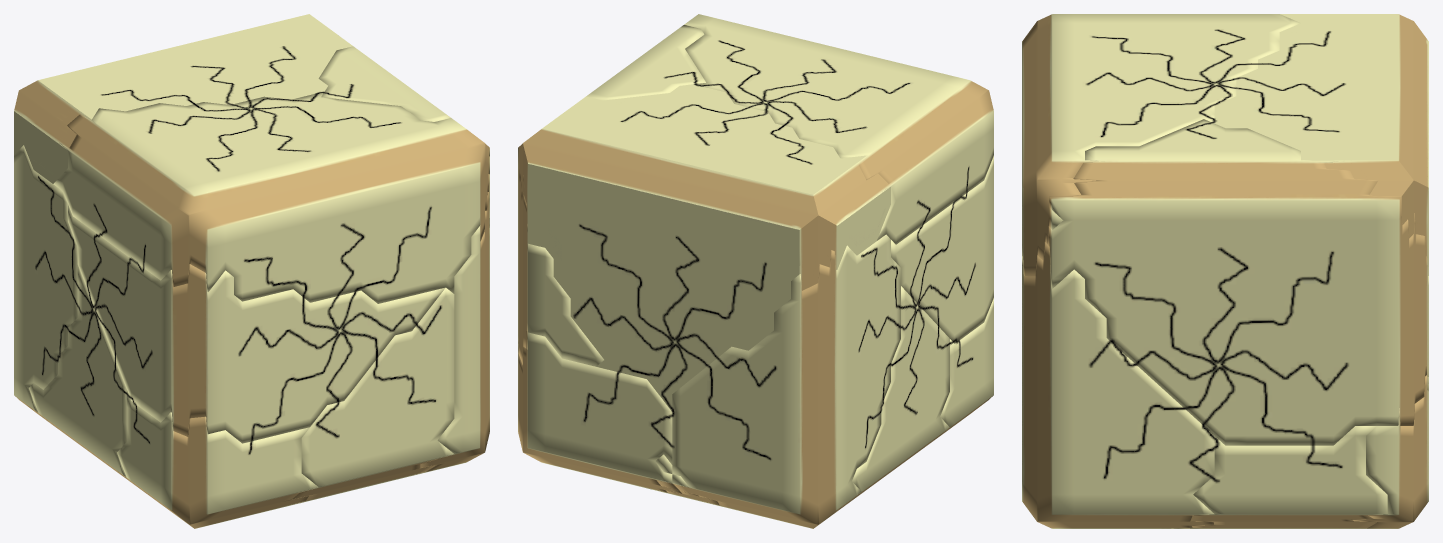
Rendered from BrokenBox.gltf.
3 renders of one model, left to right at view 1: azimuth 30°, elevation 25°; view 2: azimuth 150°, elevation 25°; view 3: azimuth 270°, elevation 25°, orthographic. The views are drawn at different scales.
Visible parts, largest first — view 1: 立方体.012, 立方体.007, 立方体.001, 立方体.005, 立方体.006, 立方体.009, 立方体.008, 立方体.004, 立方体.002; view 2: 立方体.001, 立方体.009, 立方体.012, 立方体.003, 立方体.007, 立方体.002, 立方体.008, 立方体.006, 立方体.011; view 3: 立方体.002, 立方体.004, 立方体.012, 立方体.001, 立方体.010, 立方体.003.
Part boxes in pixels (x1=…): 立方体.012: x1=53, y1=91, x2=489, y2=303; 立方体.007: x1=68, y1=204, x2=445, y2=443; 立方体.001: x1=14, y1=14, x2=352, y2=183; 立方体.005: x1=292, y1=288, x2=454, y2=504; 立方体.006: x1=117, y1=389, x2=318, y2=528; 立方体.009: x1=14, y1=145, x2=77, y2=426; 立方体.008: x1=29, y1=265, x2=146, y2=493; 立方体.004: x1=412, y1=192, x2=489, y2=475; 立方体.002: x1=318, y1=46, x2=489, y2=227; 立方体.001: x1=519, y1=84, x2=890, y2=411; 立方体.009: x1=672, y1=234, x2=900, y2=528; 立方体.012: x1=684, y1=14, x2=993, y2=244; 立方体.003: x1=518, y1=331, x2=682, y2=493; 立方体.007: x1=891, y1=156, x2=993, y2=343; 立方体.002: x1=518, y1=25, x2=705, y2=366; 立方体.008: x1=839, y1=286, x2=949, y2=509; 立方体.006: x1=930, y1=298, x2=993, y2=442; 立方体.011: x1=652, y1=454, x2=719, y2=505; 立方体.002: x1=1047, y1=119, x2=1428, y2=445; 立方体.004: x1=1022, y1=242, x2=1214, y2=528; 立方体.012: x1=1022, y1=14, x2=1300, y2=276; 立方体.001: x1=1214, y1=14, x2=1428, y2=275; 立方体.010: x1=1171, y1=426, x2=1387, y2=528; 立方体.003: x1=1352, y1=375, x2=1428, y2=528.
Bounding box in the file's own units: 2.16 × 2.16 × 2.16.
